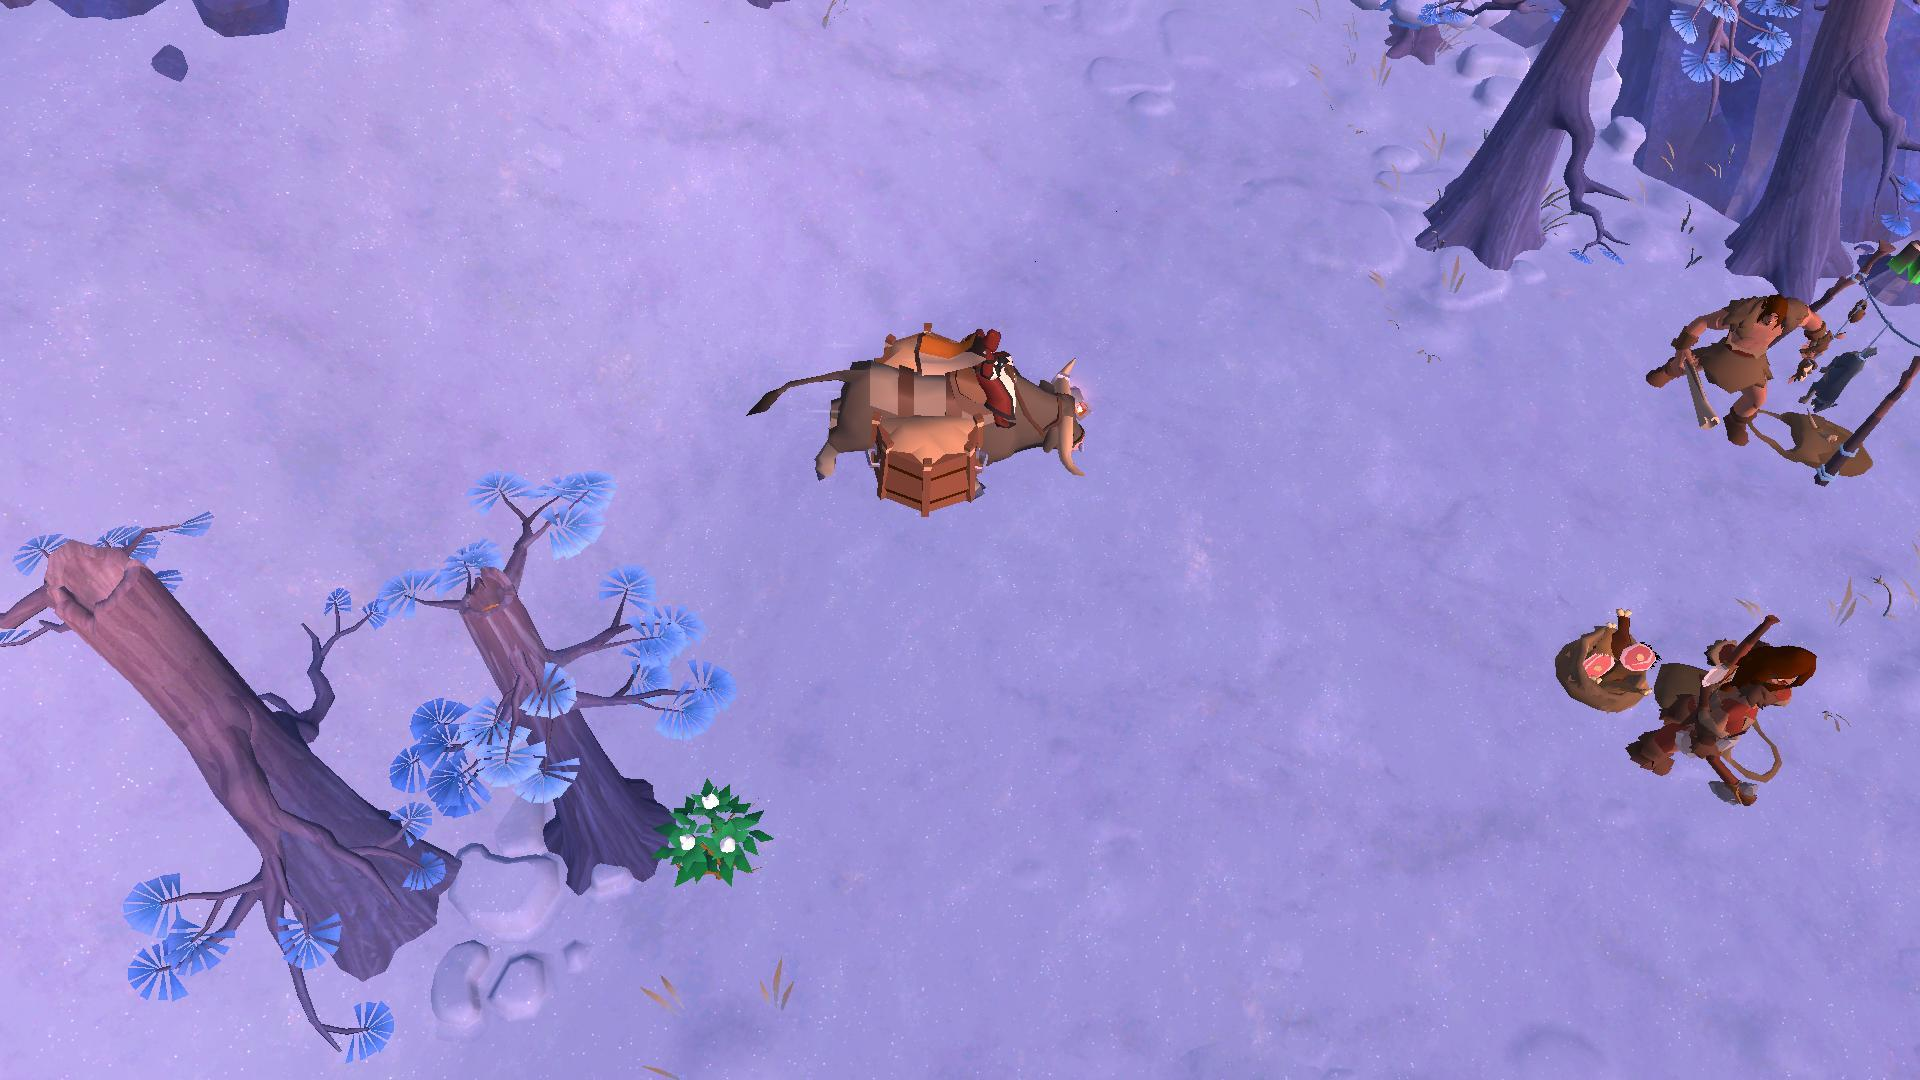enemy_factionKeeper: (1638, 633, 1822, 795), (1679, 278, 1822, 436)
fiber_t3: (654, 773, 771, 889)
ore_t3: (1884, 236, 1920, 286)
